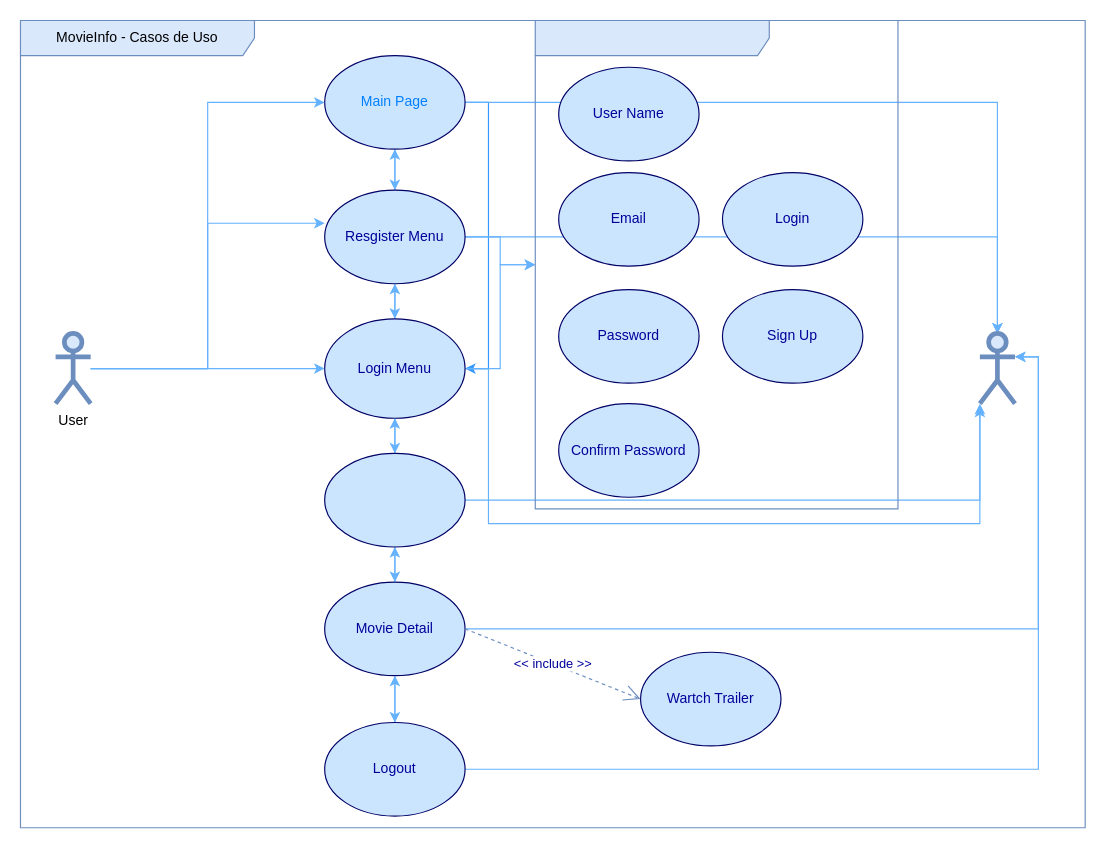
The diagram is 1106 pixels wide and 848 high, and some of its shapes have lost their labels. Here are the shapes that lost their labels. From the top down, the box of each, then its label:
(534, 19, 898, 509): Register and Login Information
(977, 331, 1017, 405): System
(324, 452, 465, 547): Search Page
